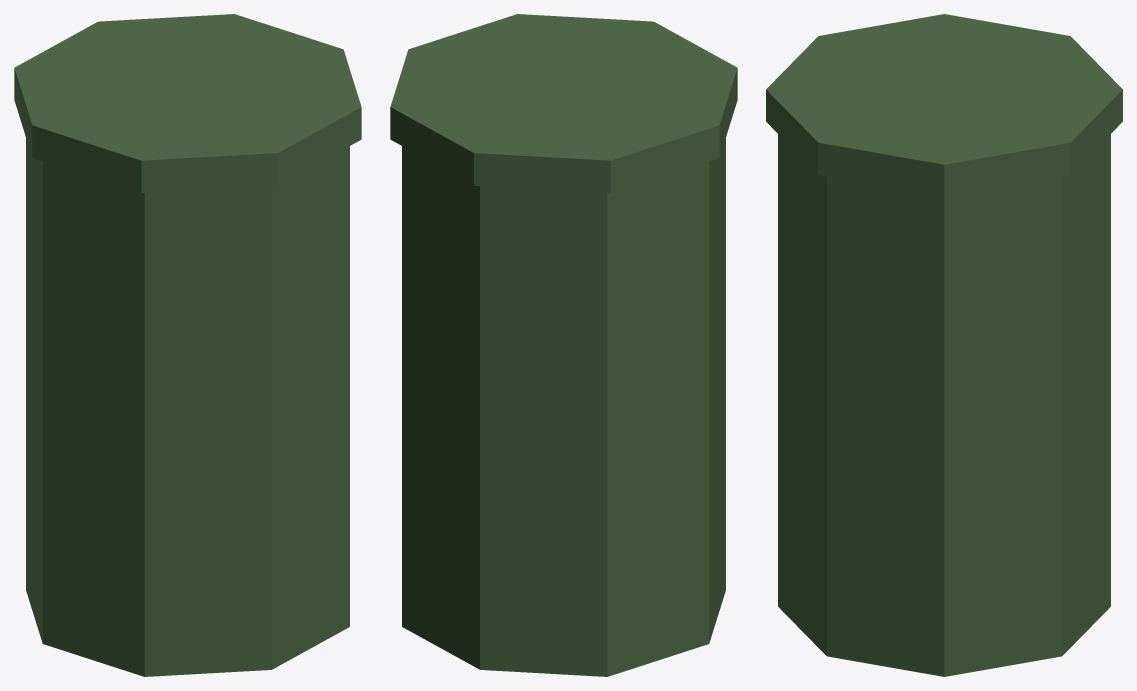
File: lixeira.glb
3 views of the same model, side by side, from view 1: azimuth 30°, elevation 25°; view 2: azimuth 150°, elevation 25°; view 3: azimuth 270°, elevation 25° (orthographic).
Visible parts, largest first — view 1: lixeira; view 2: lixeira; view 3: lixeira.
Part boxes in pixels (bbox=[...]): lixeira: bbox=[14, 14, 361, 676]; lixeira: bbox=[390, 14, 737, 676]; lixeira: bbox=[766, 14, 1122, 676].
Bounding box in the file's own units: 0.6 × 0.96 × 0.6.
